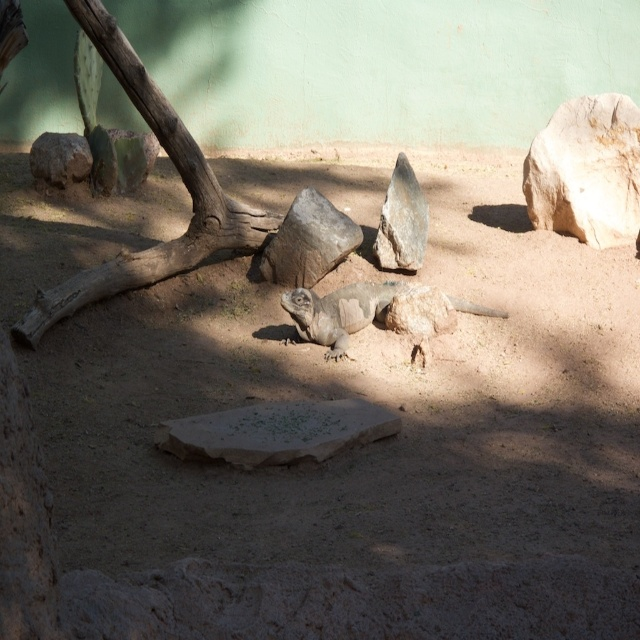Lizard: (279, 277, 511, 364)
